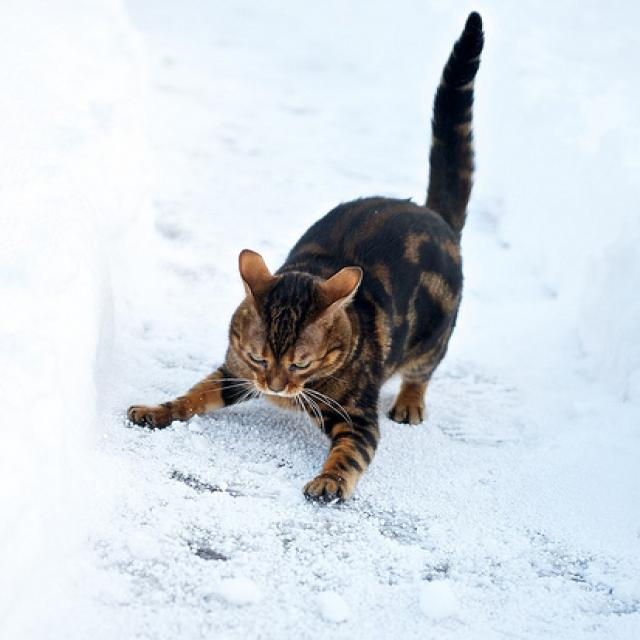Bengal: (117, 8, 519, 511)
